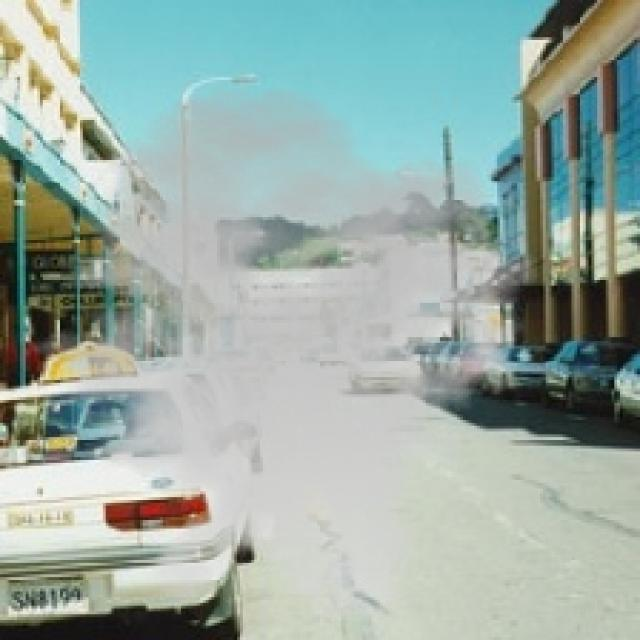smoke: (6, 85, 551, 626)
